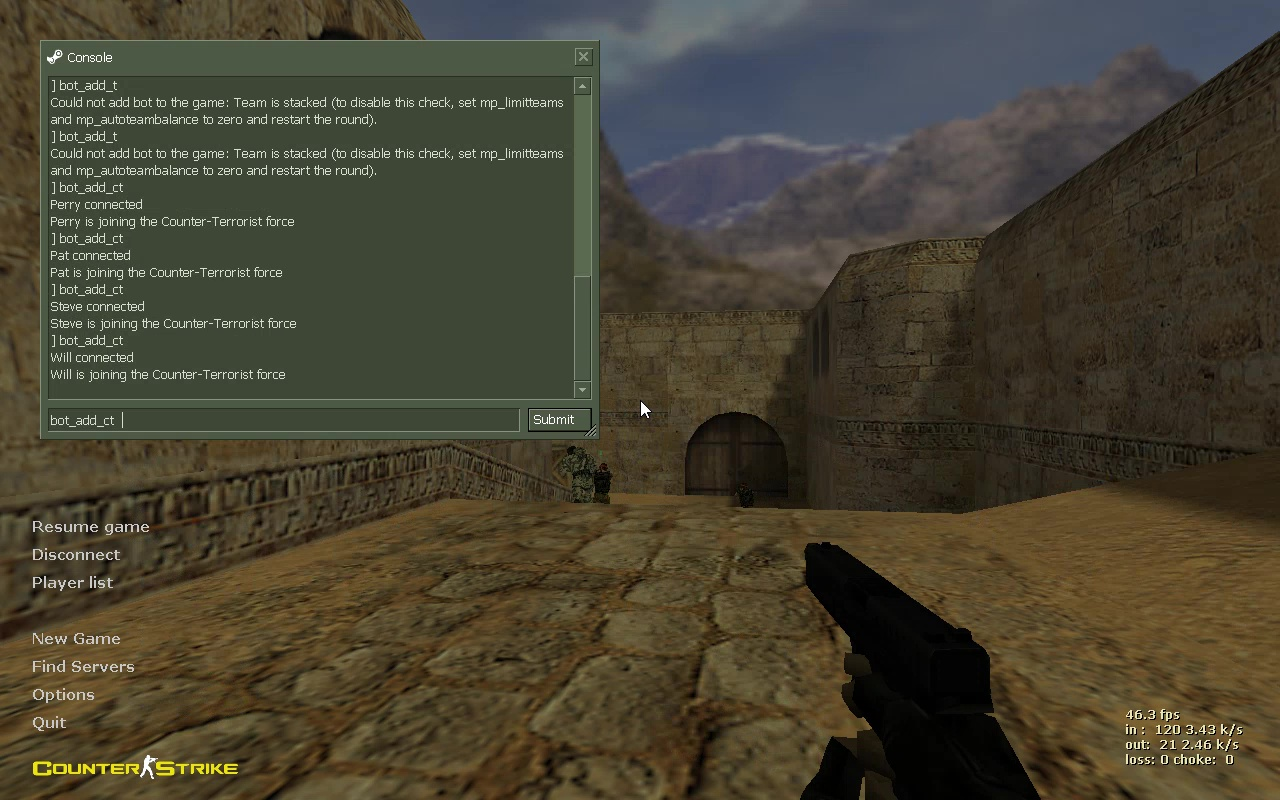terr1: (594, 461, 616, 501), (731, 487, 755, 510)
terr2: (555, 445, 593, 505)
